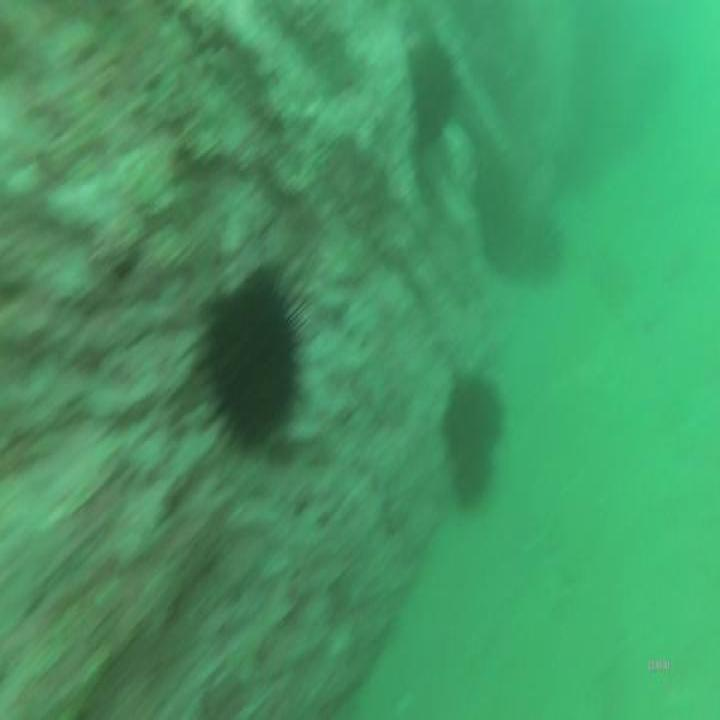echinus: (198, 262, 305, 452), (442, 361, 507, 521), (407, 32, 464, 149), (509, 196, 567, 295)
